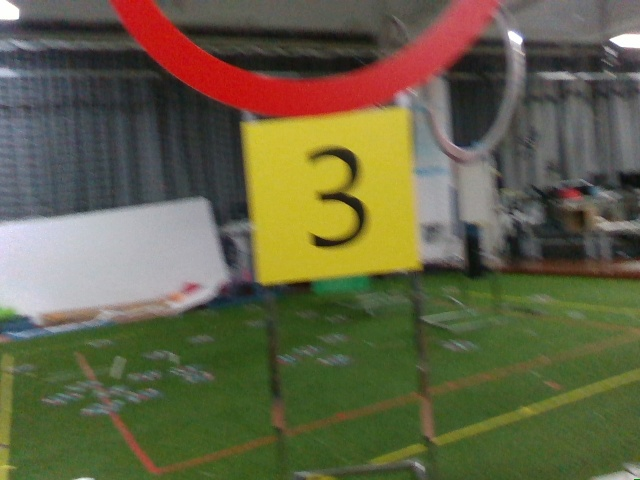target: (255, 125, 418, 271)
